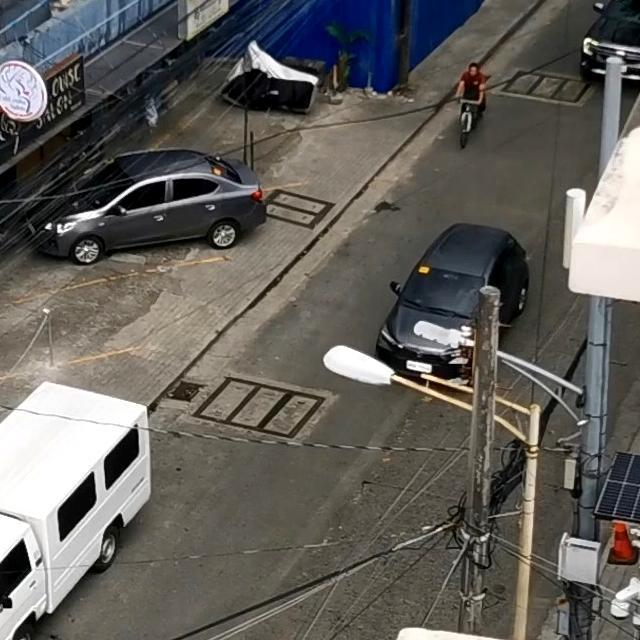Car: (0, 383, 146, 640), (32, 149, 255, 260), (368, 224, 522, 378), (579, 0, 640, 85)
